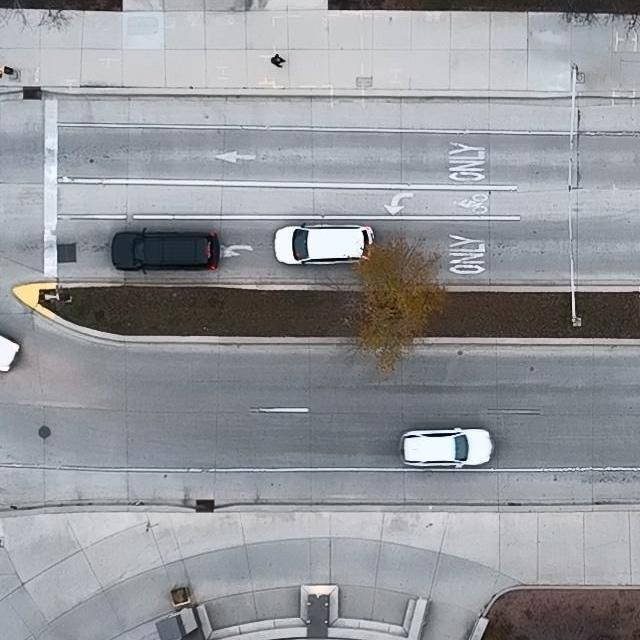car: (112, 228, 221, 275), (274, 223, 375, 268), (399, 427, 493, 468), (0, 333, 21, 372)
